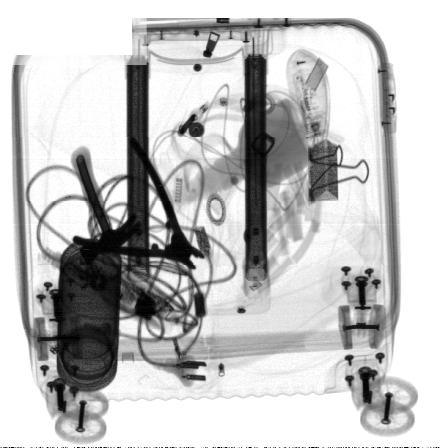Hammer: (71, 145, 142, 266)
Pliers: (72, 135, 206, 270)
